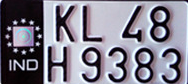3: (160, 47, 184, 84), (106, 46, 129, 84)
4: (119, 5, 145, 44)
8: (148, 5, 172, 43), (133, 47, 156, 83)
9: (80, 46, 102, 83)
H: (45, 45, 71, 82)
K: (53, 4, 78, 43)
L: (80, 5, 104, 44)
